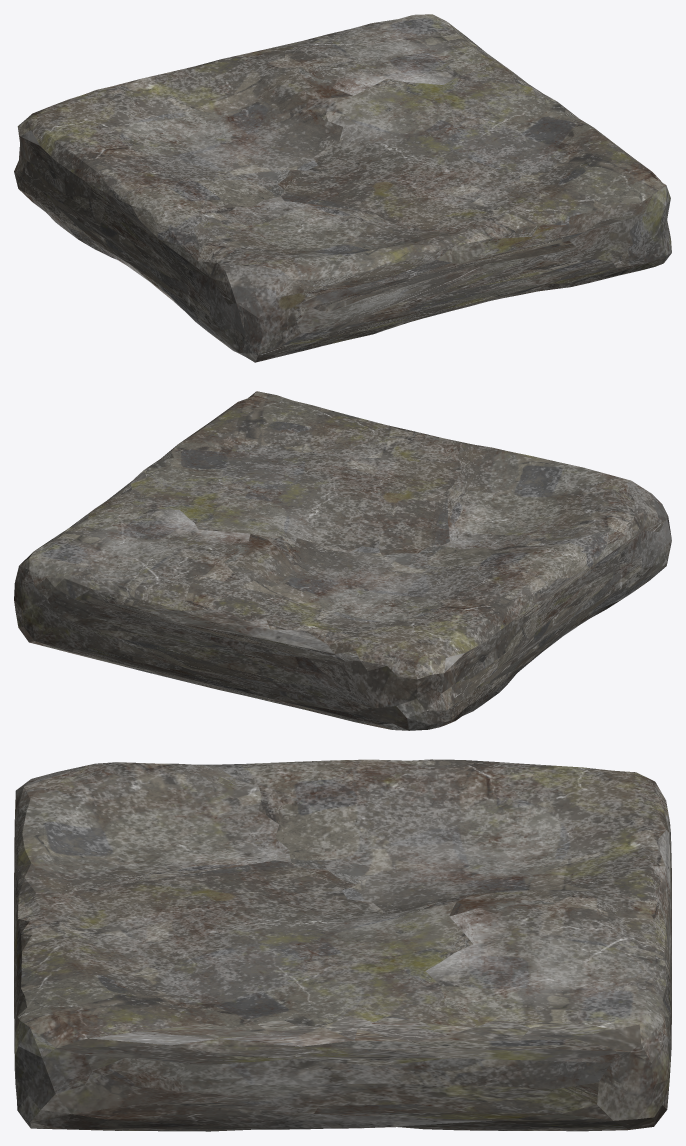
File: SM_Chimney_Cap.fbx
3 renders of one model, top to bottom at view 1: azimuth 30°, elevation 25°; view 2: azimuth 150°, elevation 25°; view 3: azimuth 270°, elevation 25°, orthographic. The views are drawn at different scales.
Visible parts, largest first — view 1: SM_Chimney_Cap_LOD0; view 2: SM_Chimney_Cap_LOD0; view 3: SM_Chimney_Cap_LOD0.
Part boxes in pixels (x1,y1,x2,y2): SM_Chimney_Cap_LOD0: (14, 14, 671, 362); SM_Chimney_Cap_LOD0: (14, 391, 671, 730); SM_Chimney_Cap_LOD0: (14, 759, 671, 1131).
Size of the model in its own units: 127 by 127 by 28.92.
